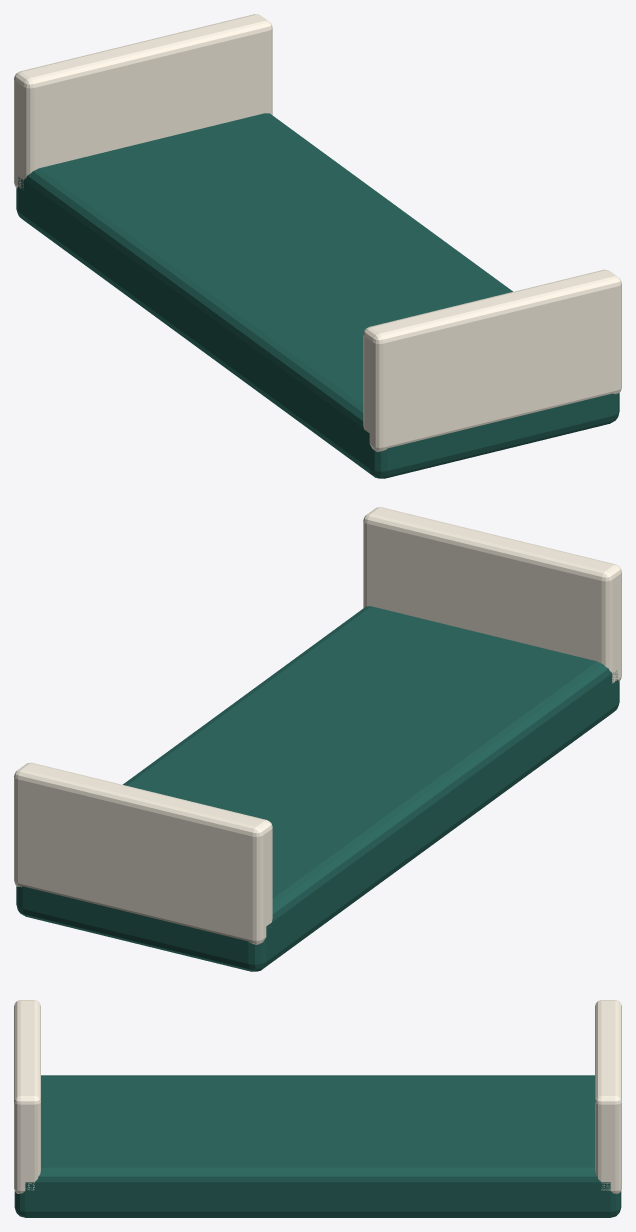
Rendered from plank_socket.glb.
3 renders of one model, top to bottom at view 1: azimuth 30°, elevation 25°; view 2: azimuth 150°, elevation 25°; view 3: azimuth 270°, elevation 25°, orthographic. The views are drawn at different scales.
Visible parts, largest first — view 1: plank_socket; view 2: plank_socket; view 3: plank_socket.
Boxes of the visible parts, x1,y1,x2,y2 form: plank_socket: (14, 14, 621, 478); plank_socket: (14, 507, 621, 971); plank_socket: (14, 1000, 621, 1217).
Size of the model in its own units: 0.22 by 0.125 by 0.561.
